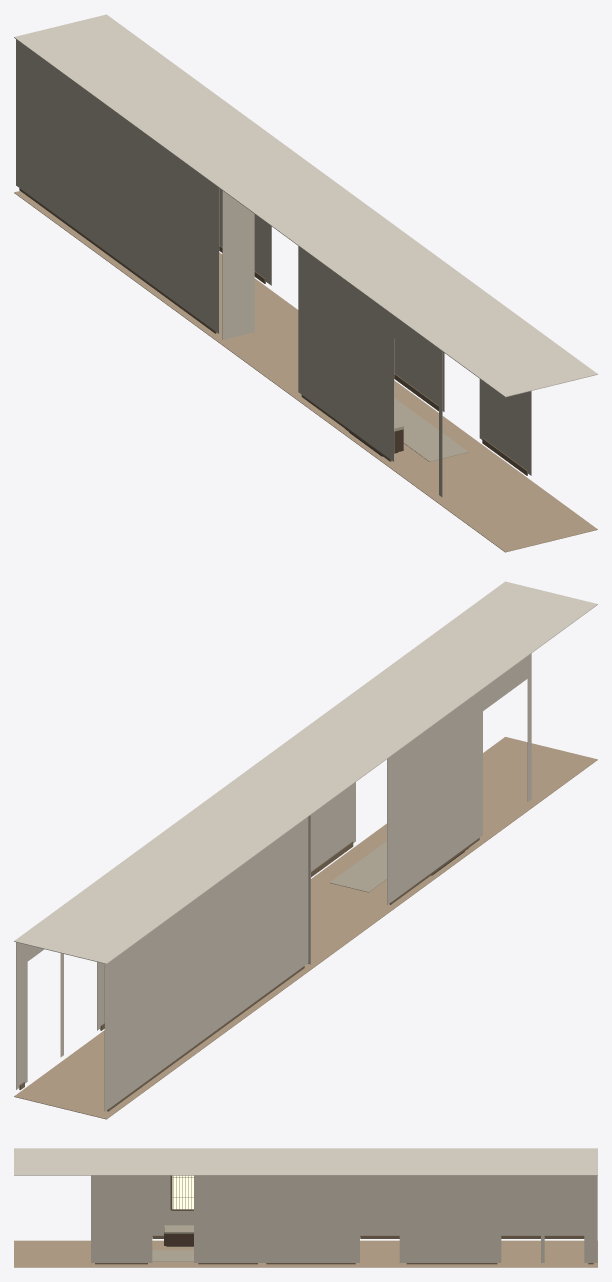
File: corridor-3.glb
3 views of the same model, one above another, from view 1: azimuth 30°, elevation 25°; view 2: azimuth 150°, elevation 25°; view 3: azimuth 270°, elevation 25° (orthographic). The views are drawn at different scales.
Parts seen in each view (by area): view 1: DESIGN | Entrance coordinated ceiling, DESIGN | Entrance paired wall finish, DESIGN | Entrance floor finish, DESIGN | Entrance paired wall finish.003, DESIGN | Arch approach finish, DESIGN | Entrance paired wall finish.013, DESIGN | Entrance quiet runner, DESIGN | Entrance paired wall finish.012, DESIGN | Entrance paired wall finish.006, DESIGN | Entrance paired wall finish.002; view 2: DESIGN | Entrance coordinated ceiling, DESIGN | Entrance paired wall finish, DESIGN | Entrance floor finish, DESIGN | Entrance paired wall finish.003, DESIGN | Entrance paired wall finish.012, DESIGN | Entrance paired wall finish.005, DESIGN | Entrance quiet runner, DESIGN | Entrance paired wall finish.002, DESIGN | Entrance paired wall finish.001; view 3: DESIGN | Entrance coordinated ceiling, DESIGN | Entrance paired wall finish.006, DESIGN | Entrance paired wall finish.009, DESIGN | Entrance floor finish, DESIGN | Entrance paired wall finish.012, DESIGN | Entrance paired wall finish, DESIGN | Entrance paired wall finish.013, DESIGN | Entrance paired wall finish.003, DESIGN | Entrance paired wall finish.005, DESIGN | Kumiko opal diffuser, DESIGN | Entrance paired wall finish.007, DESIGN | Entrance paired wall finish.010 (+8 smaller).
Part boxes in pixels (x1,y1,x2,y2): DESIGN | Entrance coordinated ceiling: (14, 14, 597, 397); DESIGN | Entrance paired wall finish: (16, 39, 219, 333); DESIGN | Entrance floor finish: (14, 191, 597, 552); DESIGN | Entrance paired wall finish.003: (298, 246, 394, 461); DESIGN | Arch approach finish: (222, 190, 254, 339); DESIGN | Entrance paired wall finish.013: (479, 379, 531, 475); DESIGN | Entrance quiet runner: (394, 398, 468, 461); DESIGN | Entrance paired wall finish.012: (394, 339, 444, 411); DESIGN | Entrance paired wall finish.006: (219, 188, 268, 283); DESIGN | Entrance paired wall finish.002: (394, 316, 438, 370); DESIGN | Entrance coordinated ceiling: (14, 581, 597, 964); DESIGN | Entrance paired wall finish: (104, 817, 308, 1111); DESIGN | Entrance floor finish: (14, 737, 597, 1119); DESIGN | Entrance paired wall finish.003: (387, 689, 482, 904); DESIGN | Entrance paired wall finish.012: (311, 782, 355, 871); DESIGN | Entrance paired wall finish.005: (16, 942, 27, 1089); DESIGN | Entrance quiet runner: (329, 841, 386, 892); DESIGN | Entrance paired wall finish.002: (483, 656, 527, 710); DESIGN | Entrance paired wall finish.001: (527, 653, 531, 801); DESIGN | Entrance coordinated ceiling: (14, 1148, 597, 1175); DESIGN | Entrance paired wall finish.006: (402, 1175, 501, 1262); DESIGN | Entrance paired wall finish.009: (262, 1175, 359, 1262); DESIGN | Entrance floor finish: (14, 1240, 597, 1267); DESIGN | Entrance paired wall finish.012: (194, 1175, 262, 1262); DESIGN | Entrance paired wall finish: (360, 1176, 584, 1236); DESIGN | Entrance paired wall finish.013: (91, 1175, 152, 1262); DESIGN | Entrance paired wall finish.003: (152, 1175, 193, 1236); DESIGN | Entrance paired wall finish.005: (584, 1175, 597, 1262); DESIGN | Kumiko opal diffuser: (172, 1175, 193, 1209); DESIGN | Entrance paired wall finish.007: (501, 1175, 540, 1191); DESIGN | Entrance paired wall finish.010: (360, 1175, 399, 1191).
Bounding box in the file's own units: 1.7 × 2.73 × 15.61.
